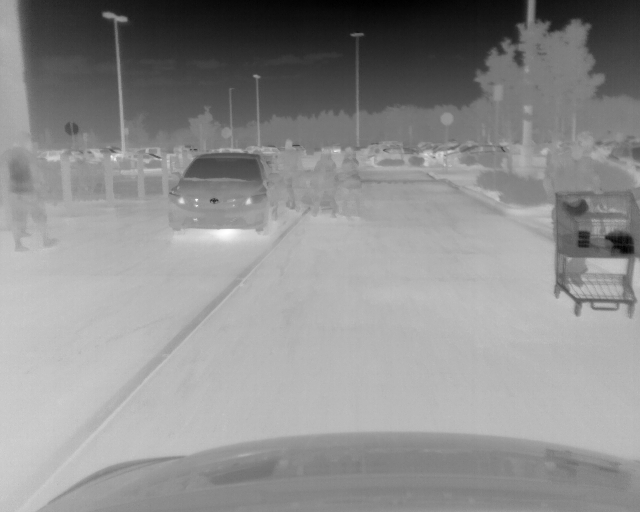car: (169, 153, 277, 235), (444, 145, 509, 167), (375, 146, 424, 165)
people: (546, 130, 593, 291), (8, 131, 59, 253), (313, 148, 337, 218), (339, 148, 362, 218), (280, 139, 300, 210)
